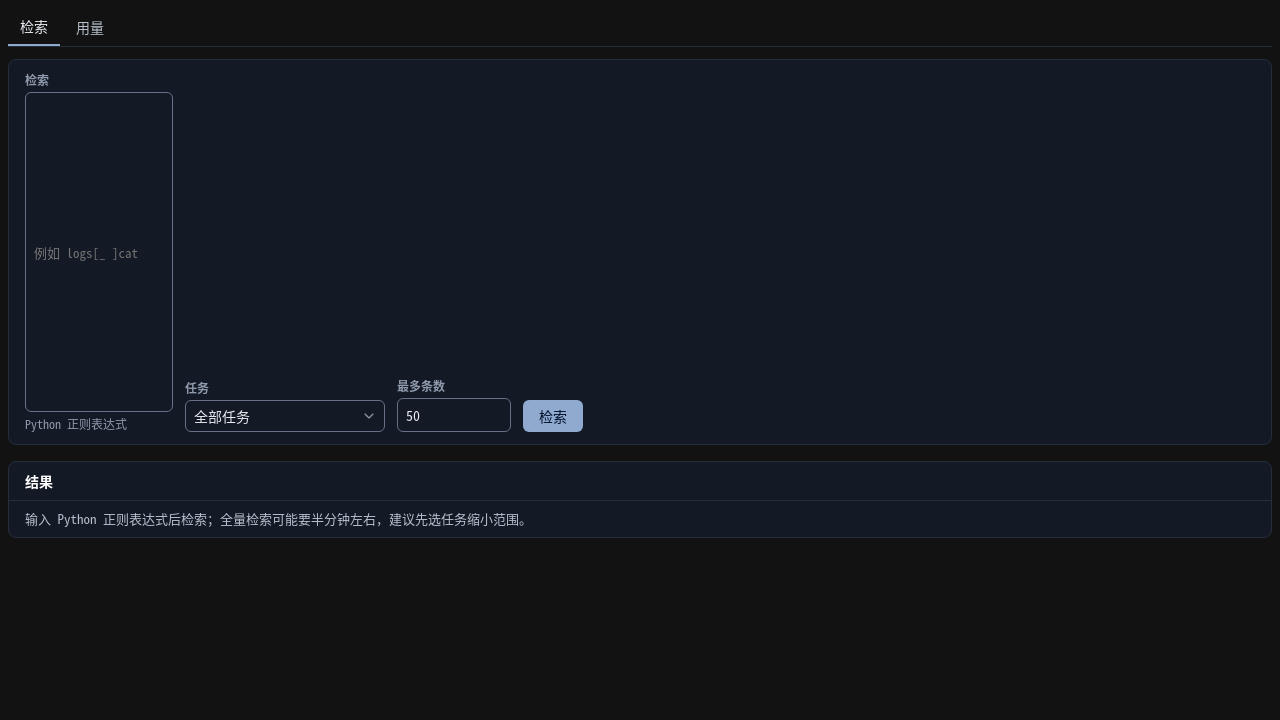
Test: 日志与用量：用量 › 按模型表：回报情况、占比与条宽、合计
Click the tab "用量". click: (90, 27)
box: [64,8,116,46]
(page scrolled)
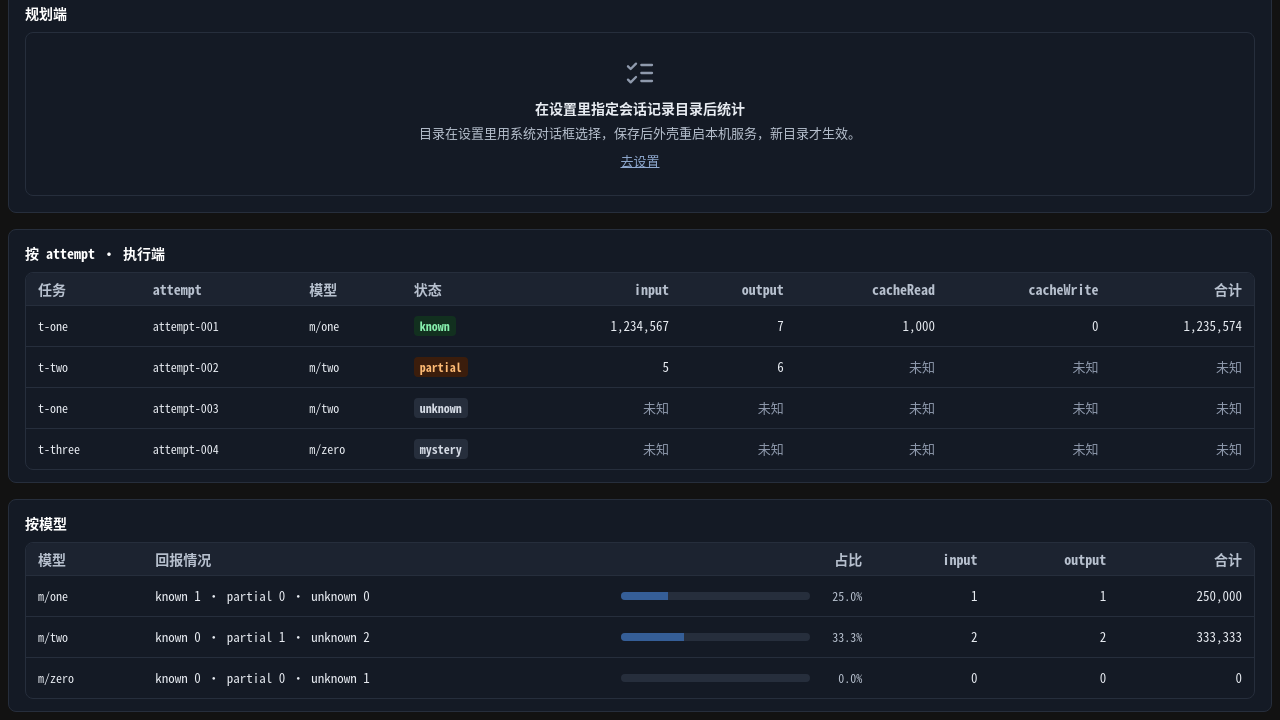
Expected: the cell "m/one" next to "attempt-001" is shown, [309,317,339,334]
Expected: the cell "known 1 · partial 0 · unknown 0" is shown, [143,576,609,616]
Expected: the cell "m/two" in the row of "t-two" is shown, [309,358,339,375]
